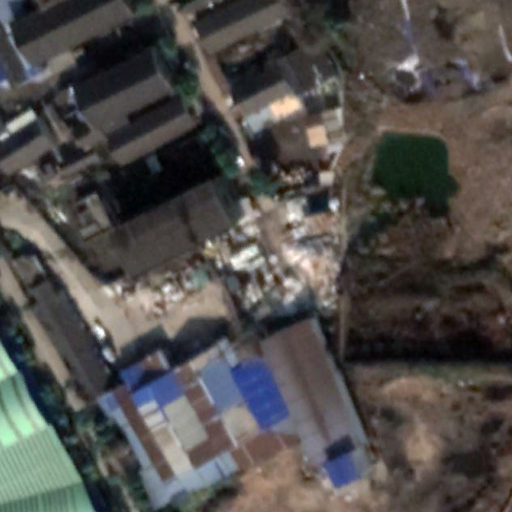msw: (216, 198, 342, 325)
